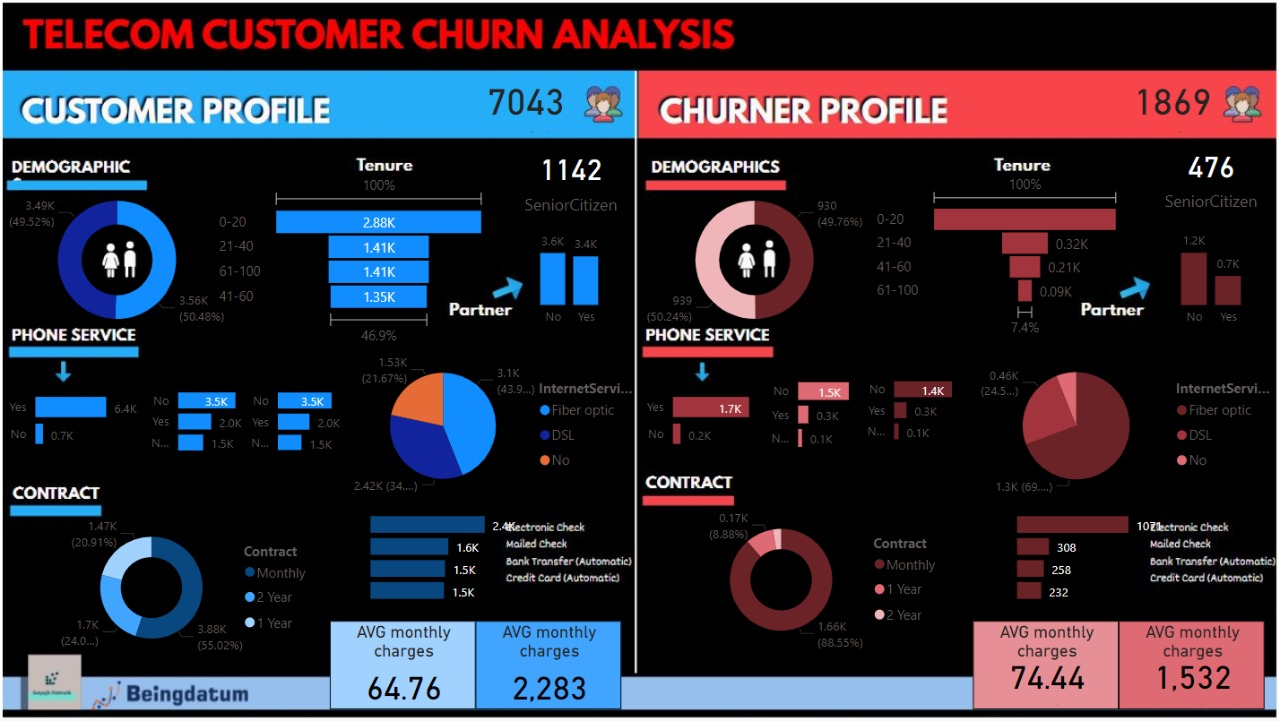

The page's visual inventory and layout, read from the dashboard file:
{"tool":"powerbi","page":{"name":"Page 1","canvas":[1280,720],"ordinal":0},"visuals":[{"type":"card","fields":{"Values":["CountNonNull(Churned_Data.Churn)"]},"box":[1093,80.8,161.7,55.5],"z":0},{"type":"card","fields":{"Values":["CountNonNull(Telco-Churn-Analysis.Churn)"]},"box":[444,80.8,161.7,55.5],"z":1000},{"type":"donutChart","fields":{"Category":["Telco-Churn-Analysis.gender"],"Y":["CountNonNull(Telco-Churn-Analysis.gender)"]},"box":[0,172.2,229.6,174.6],"z":2000},{"type":"donutChart","fields":{"Category":["Churned_Data.gender"],"Y":["CountNonNull(Churned_Data.gender)"]},"box":[639.9,172.2,229.6,174.6],"z":3000},{"type":"funnel","fields":{"Category":["Telco-Churn-Analysis.Tenure_Bin"],"Y":["CountNonNull(Telco-Churn-Analysis.Tenure_Bin)"]},"box":[212.9,169.1,278,180.4],"z":4000},{"type":"funnel","fields":{"Category":["Churned_Data.Tenure_Bin"],"Y":["CountNonNull(Churned_Data.Tenure_Bin)"]},"box":[873,167.8,254.2,174.1],"z":5000},{"type":"card","fields":{"Values":["Sum(Telco-Churn-Analysis.SeniorCitizen)"]},"box":[514.8,139,110.2,77.7],"z":6000},{"type":"card","fields":{"Values":["Sum(Churned_Data.SeniorCitizen)"]},"box":[1157.3,136.5,111.5,77.7],"z":7000},{"type":"clusteredColumnChart","fields":{"Category":["Telco-Churn-Analysis.Partner"],"Y":["CountNonNull(Telco-Churn-Analysis.Partner)"]},"box":[504.7,219.2,129,116.5],"z":8000},{"type":"clusteredColumnChart","fields":{"Category":["Churned_Data.Partner"],"Y":["CountNonNull(Churned_Data.Partner)"]},"box":[1147.2,216.7,132.8,119],"z":9000},{"type":"clusteredBarChart","fields":{"Category":["Telco-Churn-Analysis.PhoneService"],"Y":["CountNonNull(Telco-Churn-Analysis.PhoneService)"]},"box":[0,360,141.1,114.8],"z":10000},{"type":"clusteredBarChart","fields":{"Category":["Churned_Data.PhoneService"],"Y":["CountNonNull(Churned_Data.PhoneService)"]},"box":[639.9,360,141.1,114.8],"z":11000},{"type":"clusteredBarChart","fields":{"Category":["Telco-Churn-Analysis.OnlineSecurity"],"Y":["CountNonNull(Telco-Churn-Analysis.OnlineSecurity)"]},"box":[129,370.7,134,91.4],"z":12000},{"type":"clusteredBarChart","fields":{"Category":["Churned_Data.OnlineSecurity"],"Y":["CountNonNull(Churned_Data.OnlineSecurity)"]},"box":[755.2,359.5,125.2,102.7],"z":13000},{"type":"clusteredBarChart","fields":{"Category":["Telco-Churn-Analysis.TechSupport"],"Y":["CountNonNull(Telco-Churn-Analysis.TechSupport)"]},"box":[229.2,370.7,134,83.9],"z":14000},{"type":"clusteredBarChart","fields":{"Category":["Churned_Data.TechSupport"],"Y":["CountNonNull(Churned_Data.TechSupport)"]},"box":[847.9,359.5,136.5,91.4],"z":15000},{"type":"pieChart","fields":{"Y":["CountNonNull(Telco-Churn-Analysis.InternetService)"],"Category":["Telco-Churn-Analysis.InternetService"]},"box":[340.7,346.9,299.3,159.1],"z":16000},{"type":"pieChart","fields":{"Category":["Churned_Data.InternetService"],"Y":["CountNonNull(Churned_Data.InternetService)"]},"box":[973.2,346.9,306.8,159.1],"z":17000},{"type":"donutChart","fields":{"Category":["Telco-Churn-Analysis.Contract"],"Y":["CountNonNull(Telco-Churn-Analysis.Contract)"]},"box":[51.4,512.3,268,154.1],"z":18000},{"type":"donutChart","fields":{"Category":["Churned_Data.Contract"],"Y":["CountNonNull(Churned_Data.Contract)"]},"box":[683.8,503.5,268,154.1],"z":19000},{"type":"clusteredBarChart","fields":{"Category":["Telco-Churn-Analysis.PaymentMethod"],"Y":["CountNonNull(Telco-Churn-Analysis.PaymentMethod)"]},"box":[364.5,503.5,160.3,101.4],"z":20000},{"type":"clusteredBarChart","fields":{"Category":["Churned_Data.PaymentMethod"],"Y":["CountNonNull(Churned_Data.PaymentMethod)"]},"box":[1013.2,503.5,160.3,101.4],"z":21000},{"type":"card","title":"AVG monthly charges","fields":{"Values":["Avg(Telco-Churn-Analysis.MonthlyCharges)"]},"box":[328.1,622.5,146.5,88.9],"z":22000},{"type":"card","title":"AVG monthly charges","fields":{"Values":["Avg(Churned_Data.MonthlyCharges)"]},"box":[974.4,622.5,146.5,88.9],"z":23000},{"type":"card","title":"AVG monthly charges","fields":{"Values":["Avg(Churned_Data.TotalCharges)"]},"box":[1120.9,622.5,146.5,88.9],"z":24000},{"type":"card","title":"AVG monthly charges","fields":{"Values":["Avg(Telco-Churn-Analysis.TotalCharges)"]},"box":[474.7,622.5,146.5,88.9],"z":25000}]}

Visuals, with their boxes in screenshot pixels (x1, y1, x2, y2), scaled from the page's 1280x720 canvas onto the 1280x721 screenshot:
card - CountNonNull(Churned_Data.Churn): box=[1093, 81, 1255, 136]
card - CountNonNull(Telco-Churn-Analysis.Churn): box=[444, 81, 606, 136]
donutChart - Telco-Churn-Analysis.gender x CountNonNull(Telco-Churn-Analysis.gender): box=[0, 172, 230, 347]
donutChart - Churned_Data.gender x CountNonNull(Churned_Data.gender): box=[640, 172, 870, 347]
funnel - Telco-Churn-Analysis.Tenure_Bin x CountNonNull(Telco-Churn-Analysis.Tenure_Bin): box=[213, 169, 491, 350]
funnel - Churned_Data.Tenure_Bin x CountNonNull(Churned_Data.Tenure_Bin): box=[873, 168, 1127, 342]
card - Sum(Telco-Churn-Analysis.SeniorCitizen): box=[515, 139, 625, 217]
card - Sum(Churned_Data.SeniorCitizen): box=[1157, 137, 1269, 214]
clusteredColumnChart - Telco-Churn-Analysis.Partner x CountNonNull(Telco-Churn-Analysis.Partner): box=[505, 220, 634, 336]
clusteredColumnChart - Churned_Data.Partner x CountNonNull(Churned_Data.Partner): box=[1147, 217, 1279, 336]
clusteredBarChart - Telco-Churn-Analysis.PhoneService x CountNonNull(Telco-Churn-Analysis.PhoneService): box=[0, 360, 141, 475]
clusteredBarChart - Churned_Data.PhoneService x CountNonNull(Churned_Data.PhoneService): box=[640, 360, 781, 475]
clusteredBarChart - Telco-Churn-Analysis.OnlineSecurity x CountNonNull(Telco-Churn-Analysis.OnlineSecurity): box=[129, 371, 263, 463]
clusteredBarChart - Churned_Data.OnlineSecurity x CountNonNull(Churned_Data.OnlineSecurity): box=[755, 360, 880, 463]
clusteredBarChart - Telco-Churn-Analysis.TechSupport x CountNonNull(Telco-Churn-Analysis.TechSupport): box=[229, 371, 363, 455]
clusteredBarChart - Churned_Data.TechSupport x CountNonNull(Churned_Data.TechSupport): box=[848, 360, 984, 452]
pieChart - CountNonNull(Telco-Churn-Analysis.InternetService) x Telco-Churn-Analysis.InternetService: box=[341, 347, 640, 507]
pieChart - Churned_Data.InternetService x CountNonNull(Churned_Data.InternetService): box=[973, 347, 1279, 507]
donutChart - Telco-Churn-Analysis.Contract x CountNonNull(Telco-Churn-Analysis.Contract): box=[51, 513, 319, 667]
donutChart - Churned_Data.Contract x CountNonNull(Churned_Data.Contract): box=[684, 504, 952, 659]
clusteredBarChart - Telco-Churn-Analysis.PaymentMethod x CountNonNull(Telco-Churn-Analysis.PaymentMethod): box=[364, 504, 525, 606]
clusteredBarChart - Churned_Data.PaymentMethod x CountNonNull(Churned_Data.PaymentMethod): box=[1013, 504, 1174, 606]
"AVG monthly charges" card: box=[328, 623, 475, 712]
"AVG monthly charges" card: box=[974, 623, 1121, 712]
"AVG monthly charges" card: box=[1121, 623, 1267, 712]
"AVG monthly charges" card: box=[475, 623, 621, 712]
